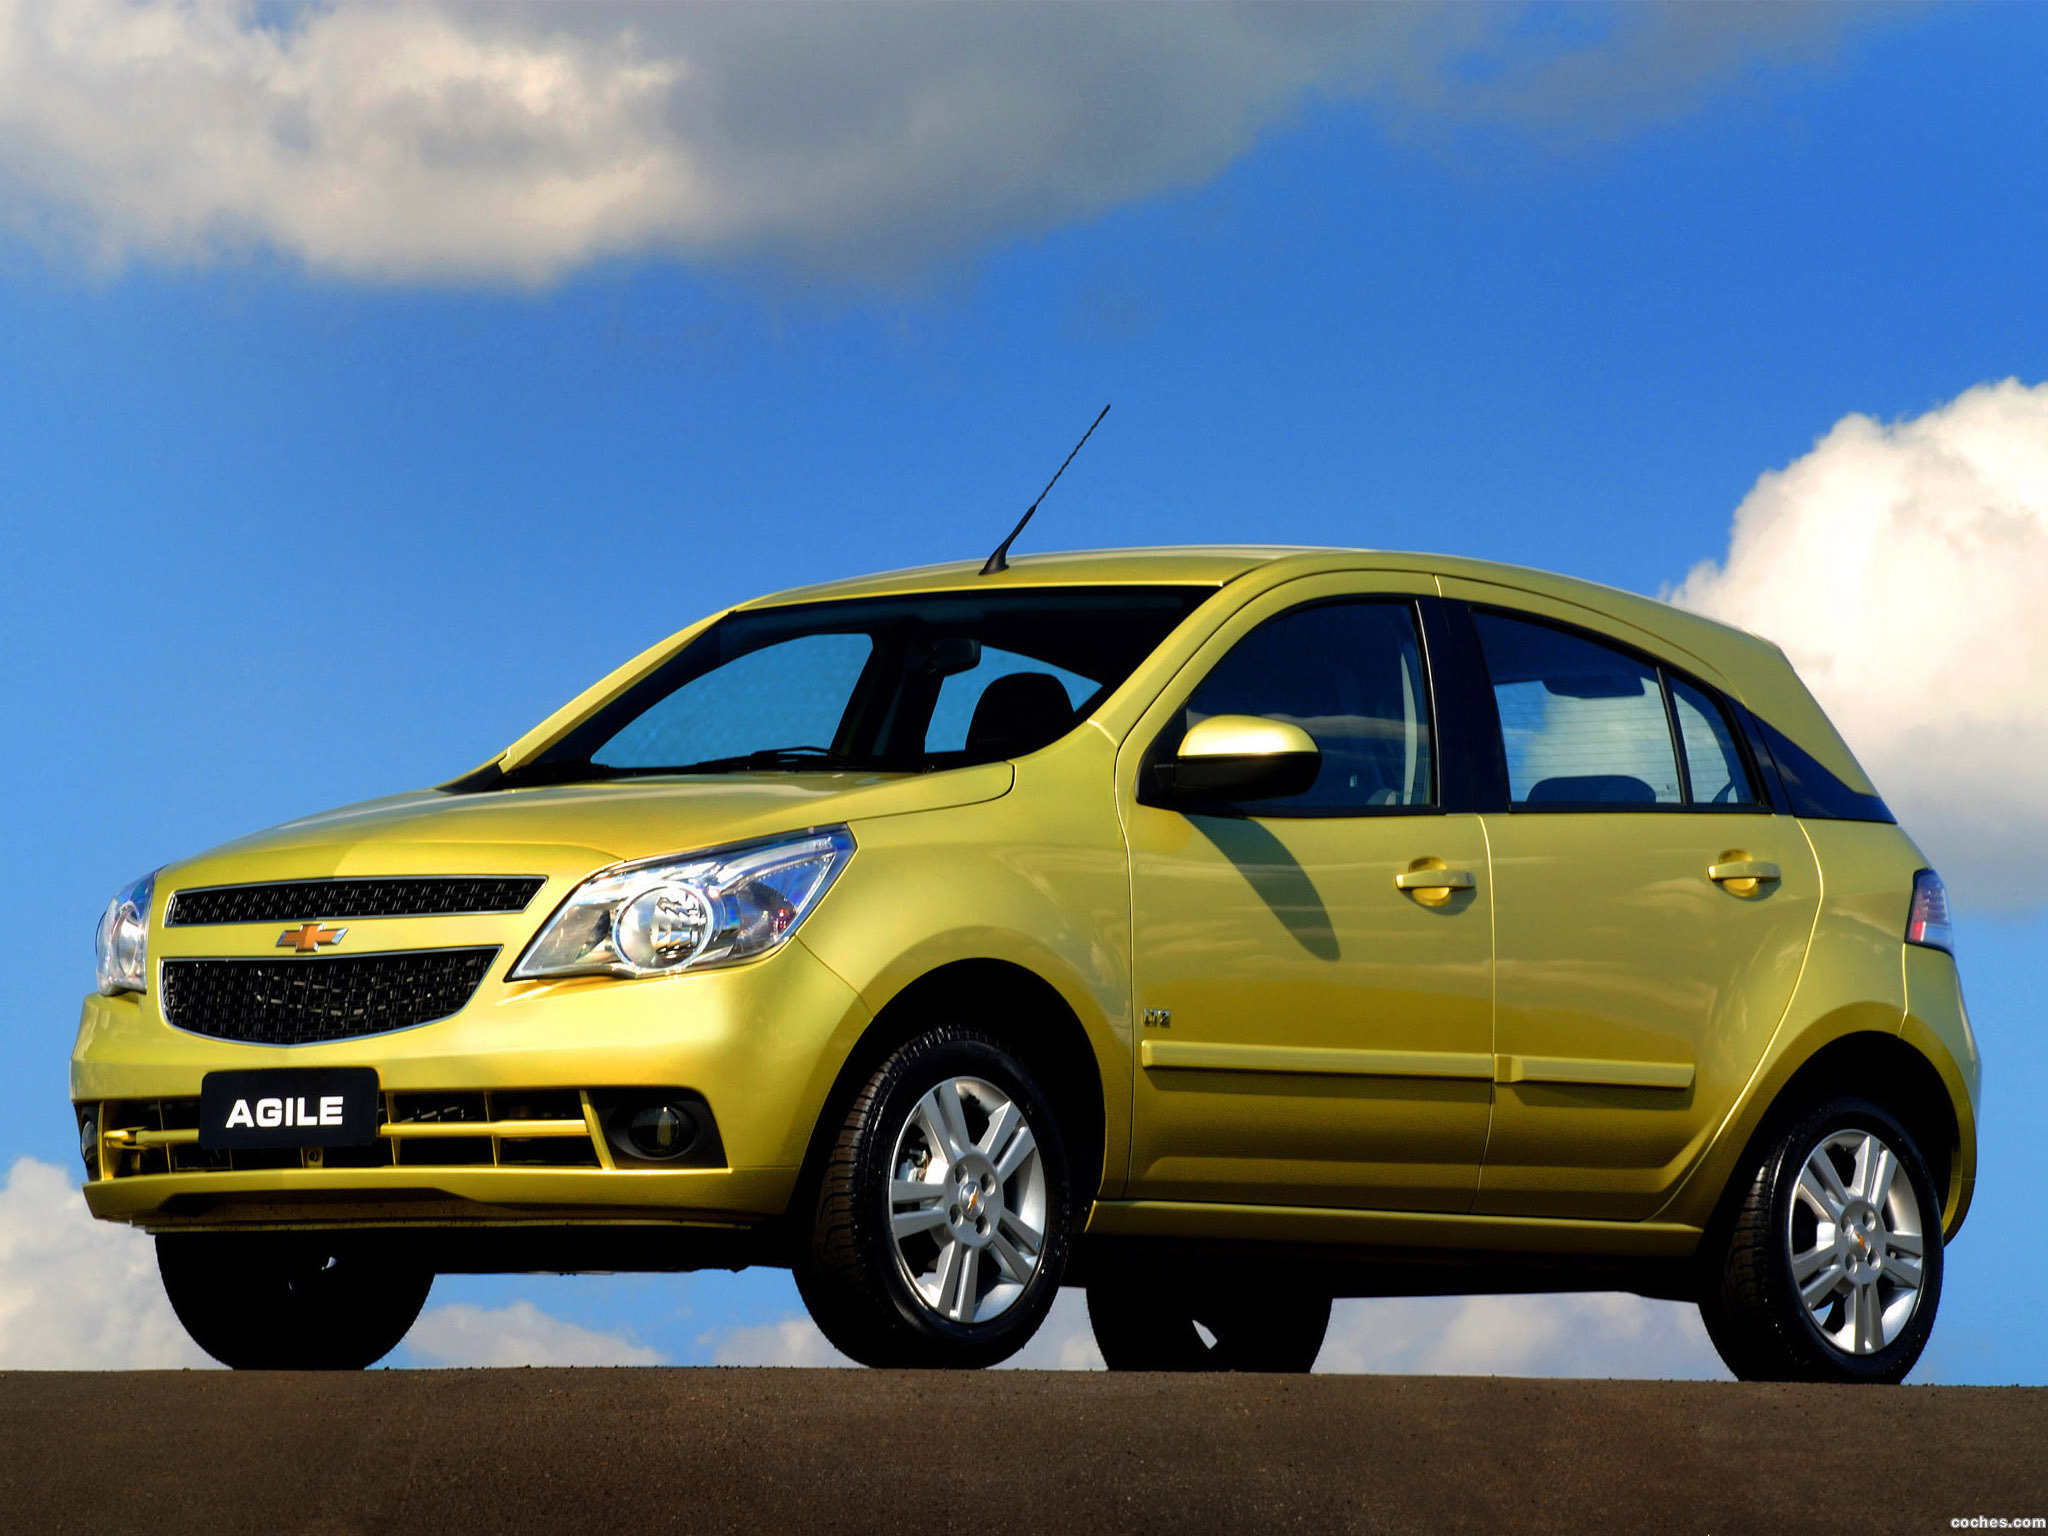car: (61, 403, 1988, 1371)
